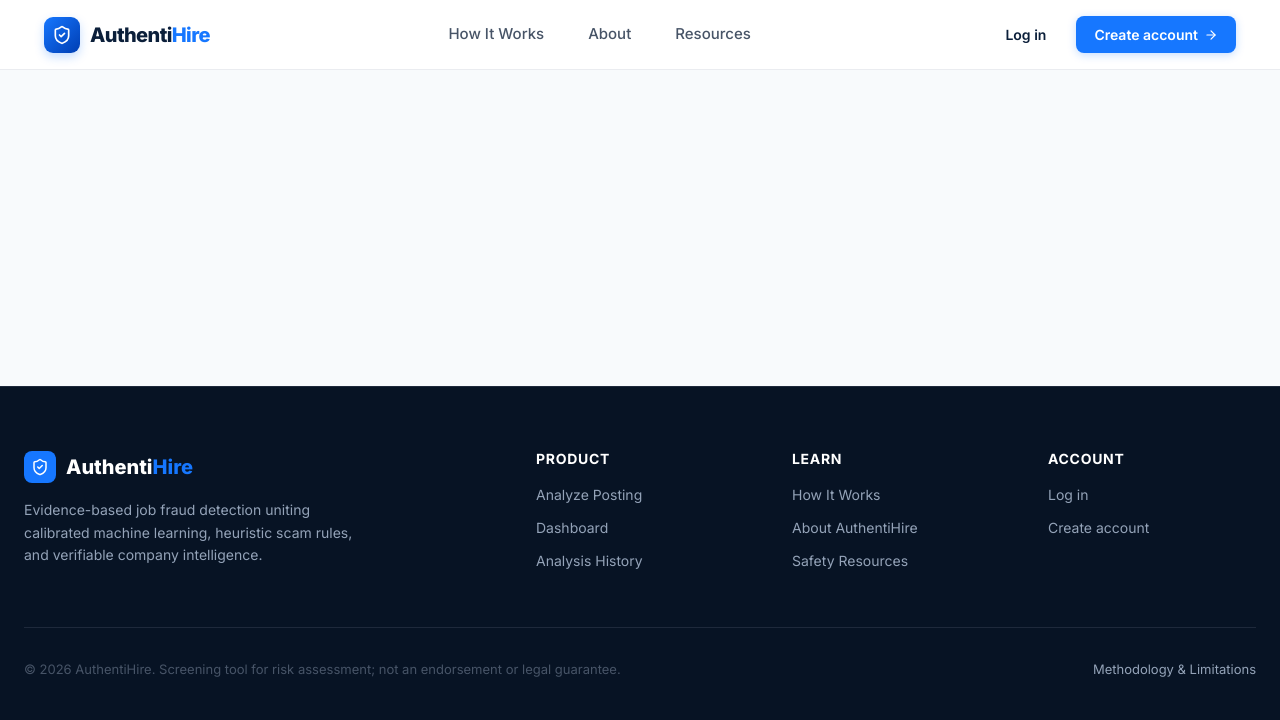
Test: AuthentiHire Multi-Page Router & Public Experience › navigates to Resources page and displays safety knowledge center
This screenshot has width=1280, height=720.
(page scrolled)
Click the link "Safety Resources". click: (850, 561)
box: [792,552,908,569]
(page scrolled)
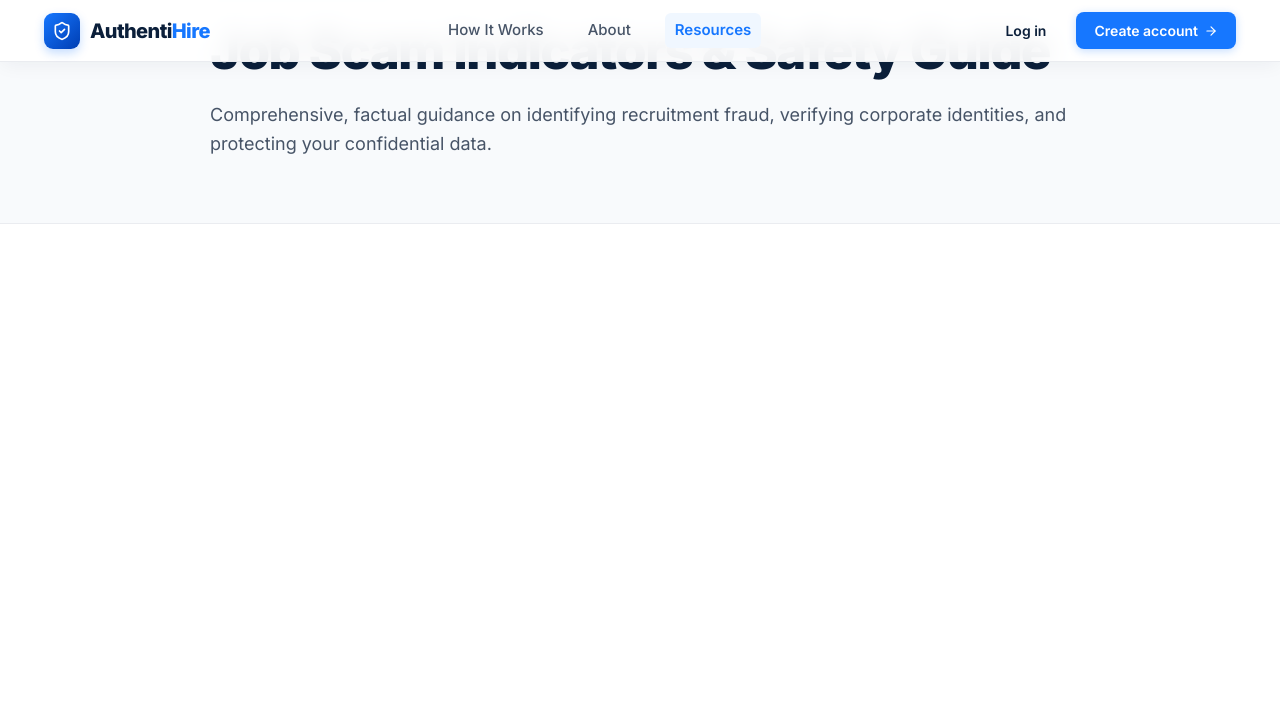
Check: the heading "Job Scam Indicators & Safety Guide" is shown, box [210,20,1070,81]
